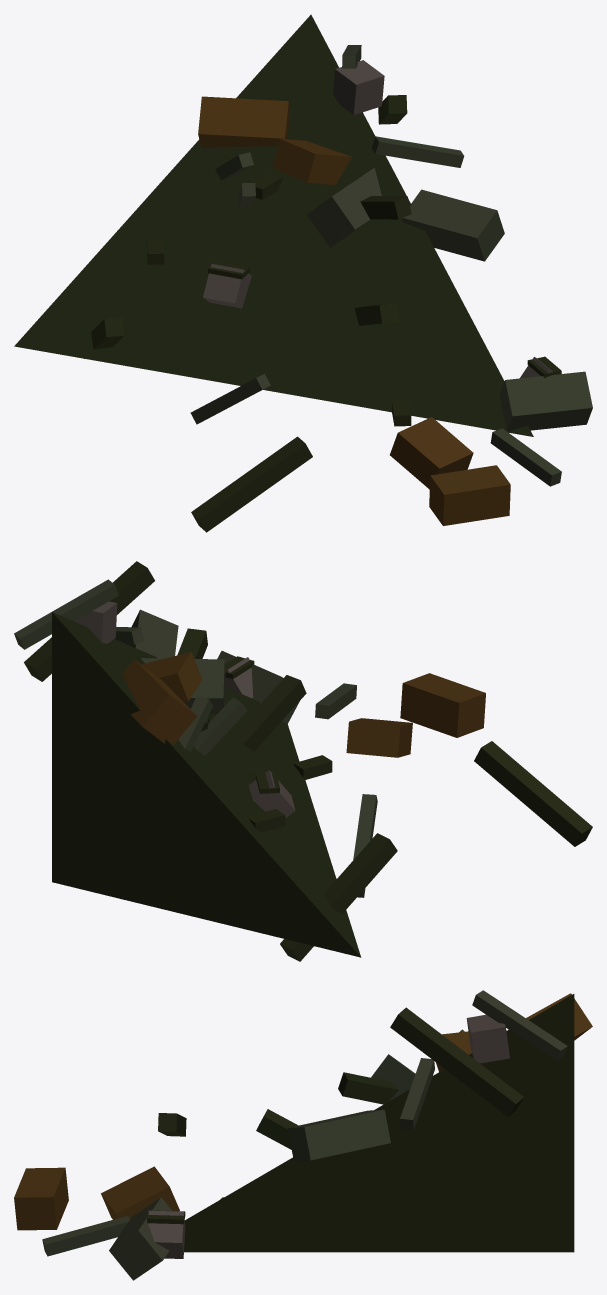
The model's file is SM_PilaZombi_RemateIzq_Altura3_s0_LOD0.fbx.
The picture shows the model from 3 angles, top to bottom: view 1: azimuth 30°, elevation 25°; view 2: azimuth 150°, elevation 25°; view 3: azimuth 270°, elevation 25°; orthographic projection. The views are drawn at different scales.
Parts seen in each view (by area): view 1: SM_pila_zombis_v2_LOD0; view 2: SM_pila_zombis_v2_LOD0; view 3: SM_pila_zombis_v2_LOD0.
Boxes of the visible parts, x1,y1,x2,y2 form: SM_pila_zombis_v2_LOD0: (14, 14, 592, 532); SM_pila_zombis_v2_LOD0: (14, 561, 592, 961); SM_pila_zombis_v2_LOD0: (14, 990, 592, 1280).
Bounding box in the file's own units: 2.63 × 1.92 × 3.45.
